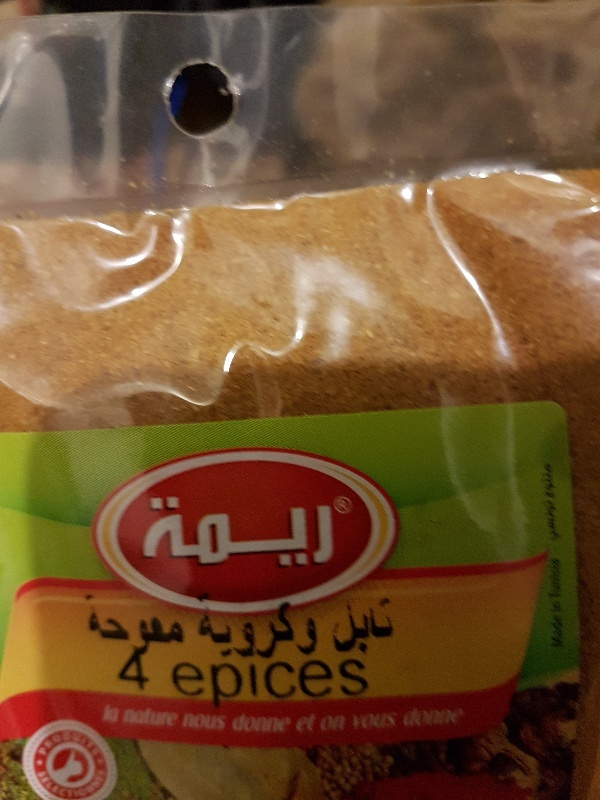text: (545, 458, 560, 546), (547, 555, 560, 651), (145, 494, 160, 572), (161, 494, 176, 572), (177, 494, 192, 572), (193, 494, 208, 572), (209, 494, 224, 572), (225, 494, 240, 572), (241, 494, 256, 572), (257, 494, 272, 572), (273, 494, 288, 572), (289, 494, 304, 572), (305, 494, 320, 572), (321, 494, 336, 572), (193, 592, 208, 663), (209, 592, 224, 663), (225, 592, 240, 663), (241, 592, 256, 663), (257, 592, 272, 663), (273, 592, 288, 663), (49, 730, 64, 799), (65, 730, 80, 799), (81, 730, 96, 799), (81, 591, 96, 657), (97, 591, 112, 657), (113, 591, 128, 657), (129, 591, 144, 657), (145, 591, 160, 657), (161, 591, 176, 657), (337, 596, 352, 658), (353, 596, 368, 658), (369, 596, 384, 658), (35, 730, 48, 799), (353, 656, 369, 710), (177, 656, 192, 710), (193, 656, 208, 710), (209, 656, 224, 710), (225, 656, 240, 710), (241, 656, 256, 710), (257, 656, 272, 710), (273, 656, 288, 710), (289, 656, 304, 710), (305, 656, 320, 710), (321, 656, 336, 710), (337, 656, 352, 710), (177, 591, 189, 657), (385, 596, 397, 658), (97, 730, 107, 799), (129, 651, 144, 694), (537, 458, 544, 546), (305, 616, 320, 657), (113, 703, 128, 741), (129, 703, 144, 741), (145, 703, 160, 741), (161, 703, 176, 741), (177, 703, 192, 741), (193, 703, 208, 741), (209, 703, 224, 741), (225, 703, 240, 741), (241, 703, 256, 741), (257, 703, 272, 741), (273, 703, 288, 741), (289, 703, 304, 741), (305, 703, 320, 741), (321, 703, 336, 741), (337, 703, 352, 741), (353, 703, 368, 741), (369, 703, 384, 741), (385, 703, 400, 741), (401, 703, 416, 741), (417, 703, 432, 741), (433, 703, 448, 741), (449, 703, 464, 741), (115, 651, 128, 694), (561, 555, 566, 651), (100, 703, 112, 741), (329, 596, 336, 658), (289, 592, 295, 663), (145, 651, 154, 694), (170, 656, 176, 710), (140, 494, 144, 572), (337, 494, 341, 572), (298, 616, 304, 657), (321, 616, 323, 657)
